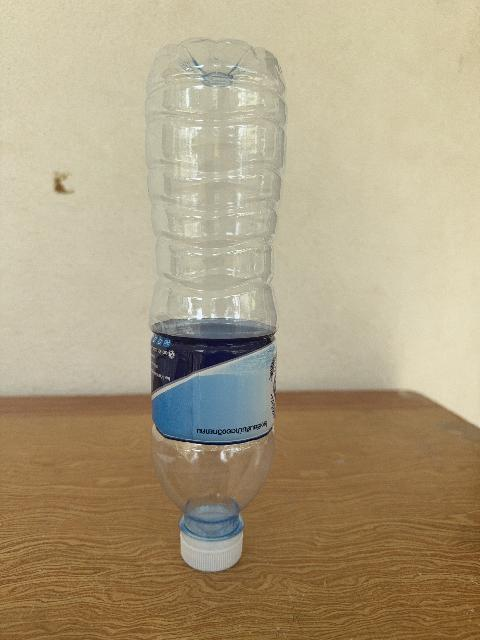bottle: (146, 39, 286, 571)
